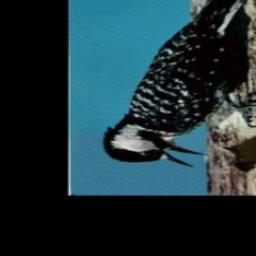Woodpecker: (95, 0, 256, 171)
